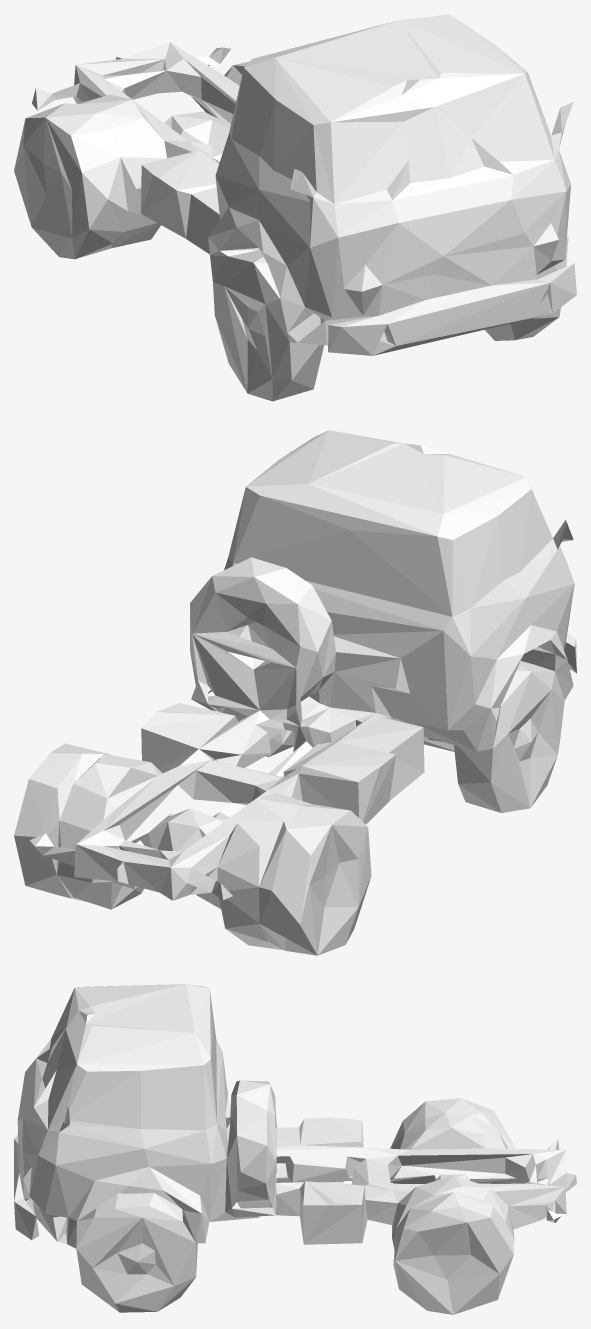
The picture shows the model from 3 angles, top to bottom: view 1: azimuth 30°, elevation 25°; view 2: azimuth 150°, elevation 25°; view 3: azimuth 270°, elevation 25°; orthographic projection. The views are drawn at different scales.
Size of the model in its own units: 3.14 by 3.21 by 6.67.
1 material, 1 textured.
